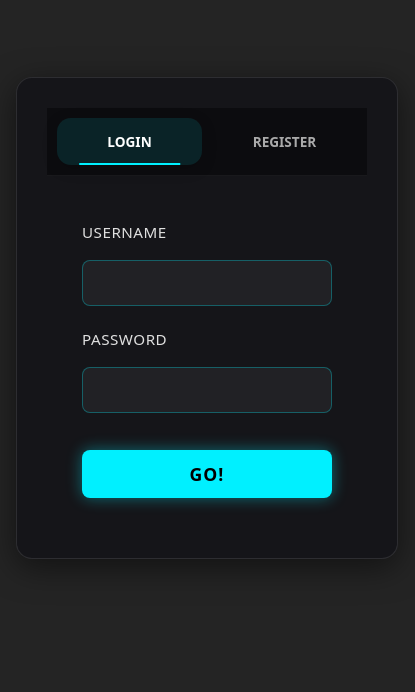
Test case: AuthForm › shows error when passwords do not match during registration
Click the button "REGISTER".
click(284, 142)  # box [212,118,357,165]
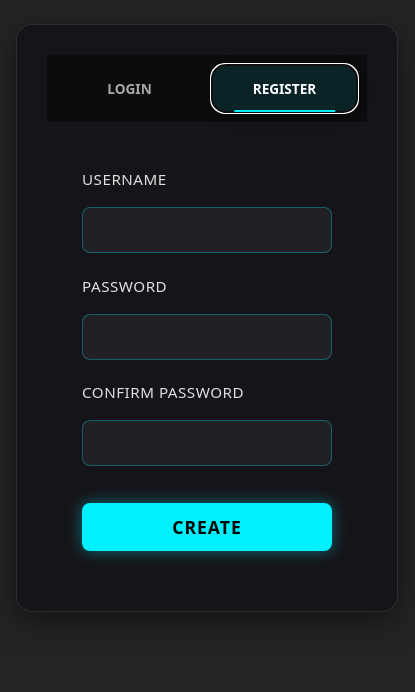
Type "testuser" into the field labelled "Username".
click(207, 230); type("testuser")  # box [82,207,332,253]
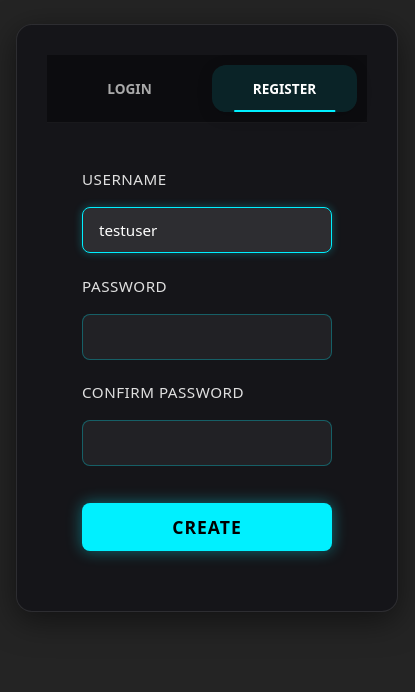
Type "password123" into the password field labelled "Password".
click(207, 336); type("password123")  # box [82,313,332,359]
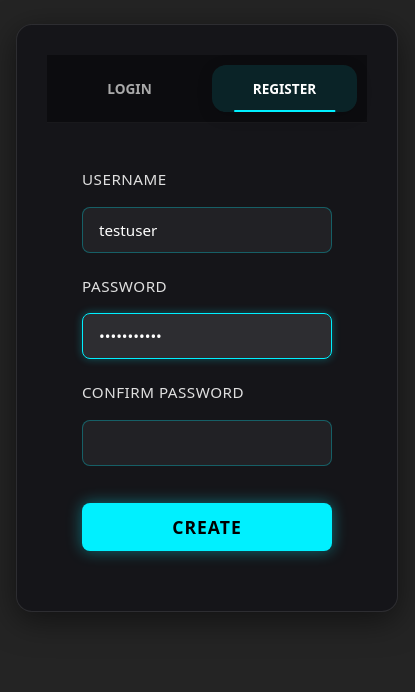
Type "password456" into the password field labelled "Confirm Password".
click(207, 443); type("password456")  # box [82,420,332,466]
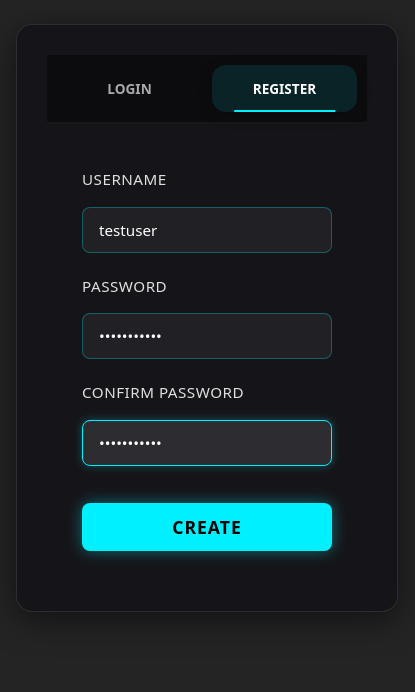
Click the button "CREATE".
click(207, 527)  # box [82,503,332,551]
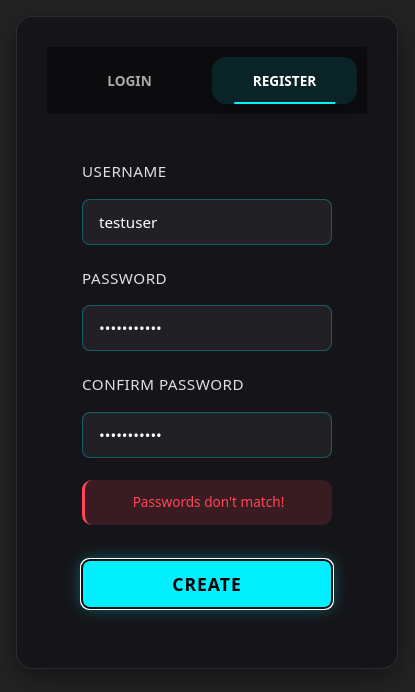
Check: the text "Passwords don't match!" is shown, box [82,480,332,525]
